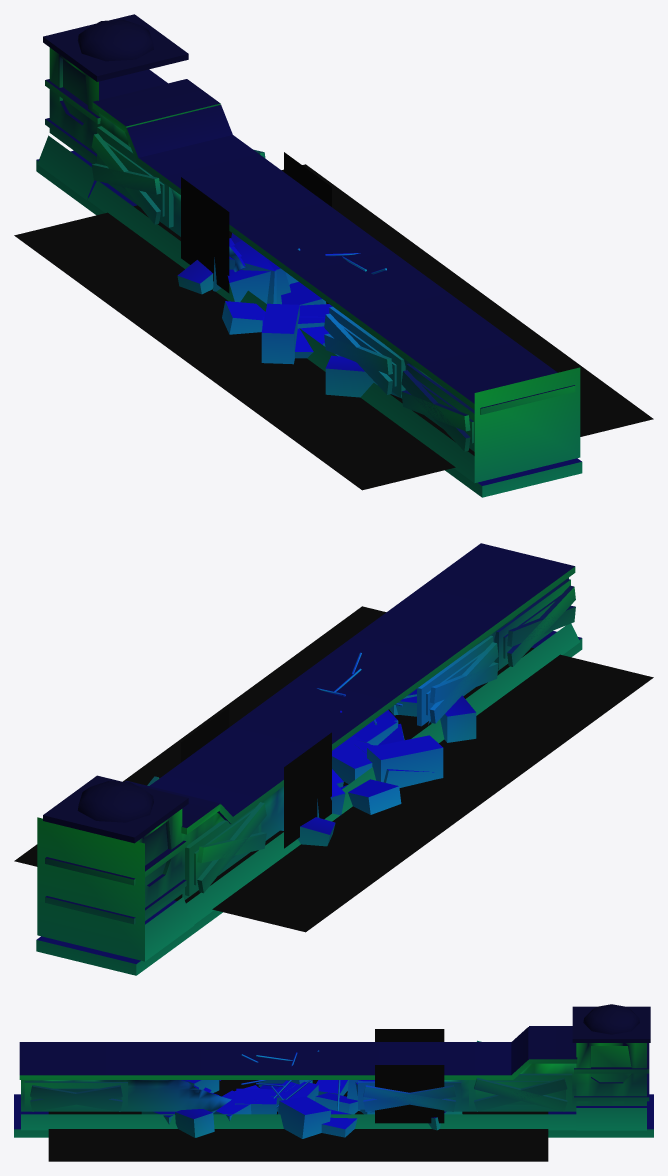
The model's file is l_lightwall_damaged.glb.
3 renders of one model, top to bottom at view 1: azimuth 30°, elevation 25°; view 2: azimuth 150°, elevation 25°; view 3: azimuth 270°, elevation 25°, orthographic. The views are drawn at different scales.
Visible parts, largest first — view 1: lod0; view 2: lod0; view 3: lod0.
Boxes of the visible parts, <box> form: lod0: <box>14,14,653,497</box>; lod0: <box>14,543,653,975</box>; lod0: <box>14,1004,653,1161</box>.
Size of what is drawn, in the model's own units: 10.5 by 5.37 by 27.79.
